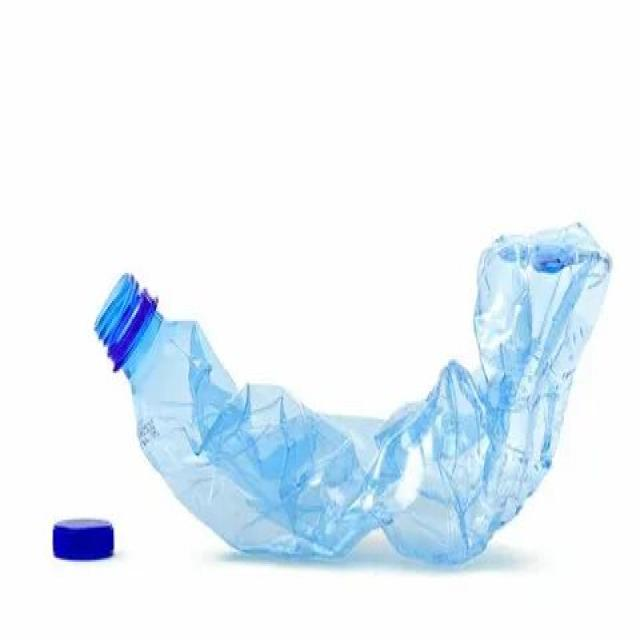blue: (92, 216, 611, 566)
